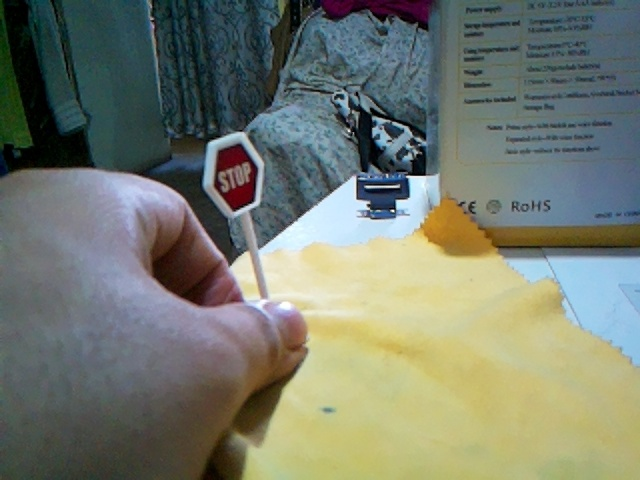stop_sign: (203, 132, 263, 217)
